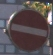No entry: (6, 6, 48, 49)
